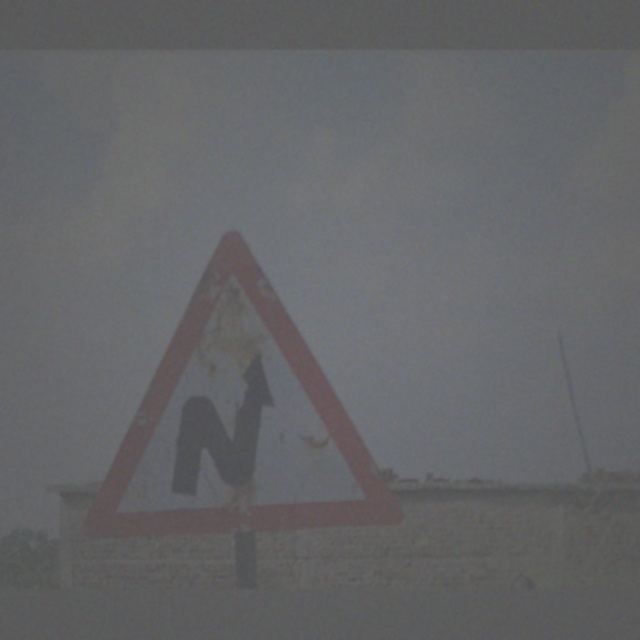Right_Reverse_Bend: (83, 235, 409, 535)
